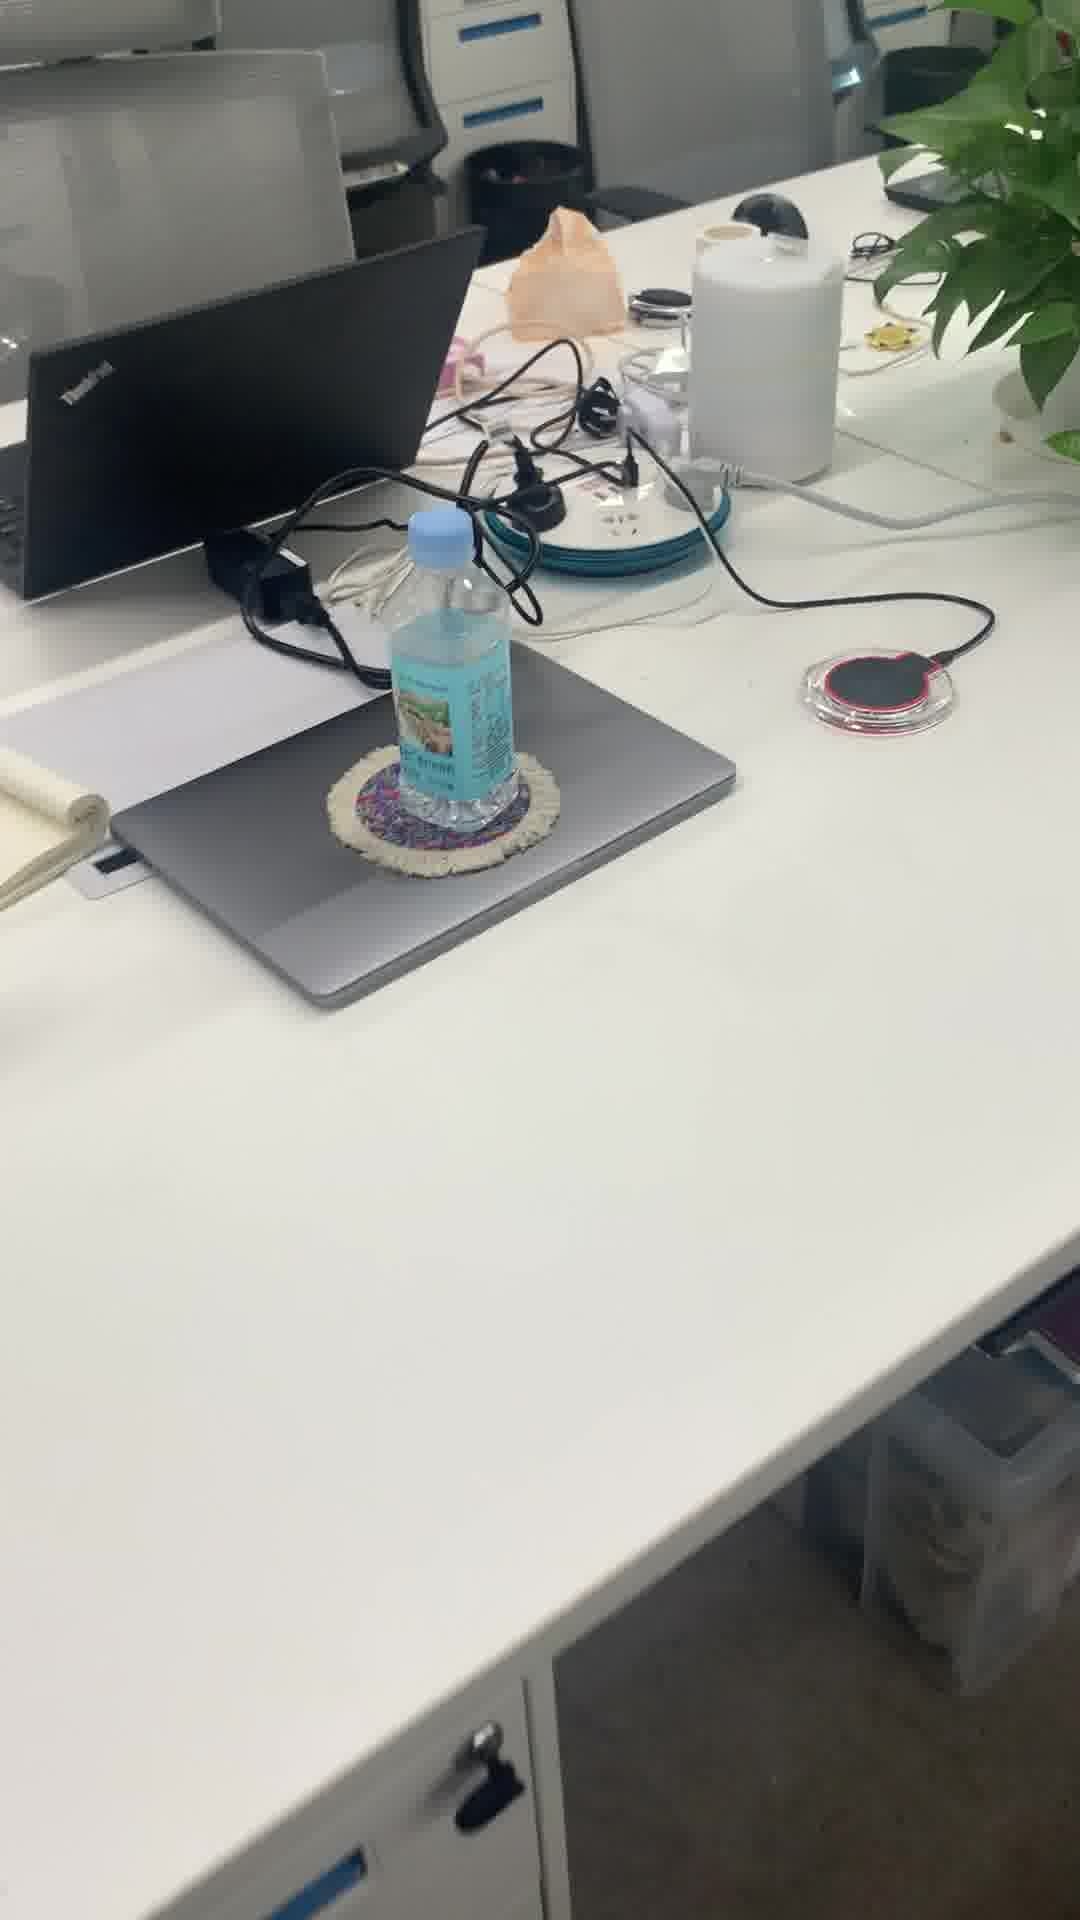水瓶: (381, 505, 530, 835)
